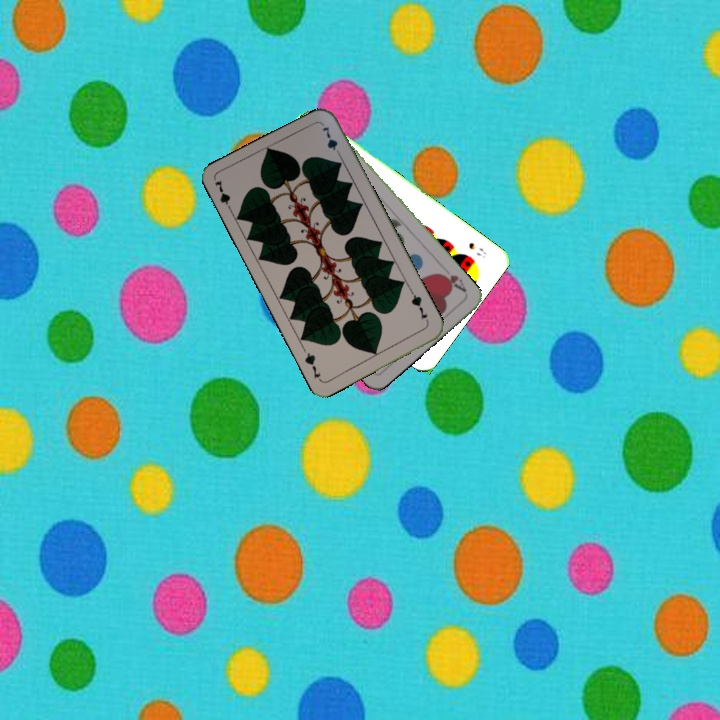G7: (211, 176, 235, 216), (407, 288, 431, 326)
HA: (434, 262, 469, 295)
S8: (465, 238, 488, 261)
